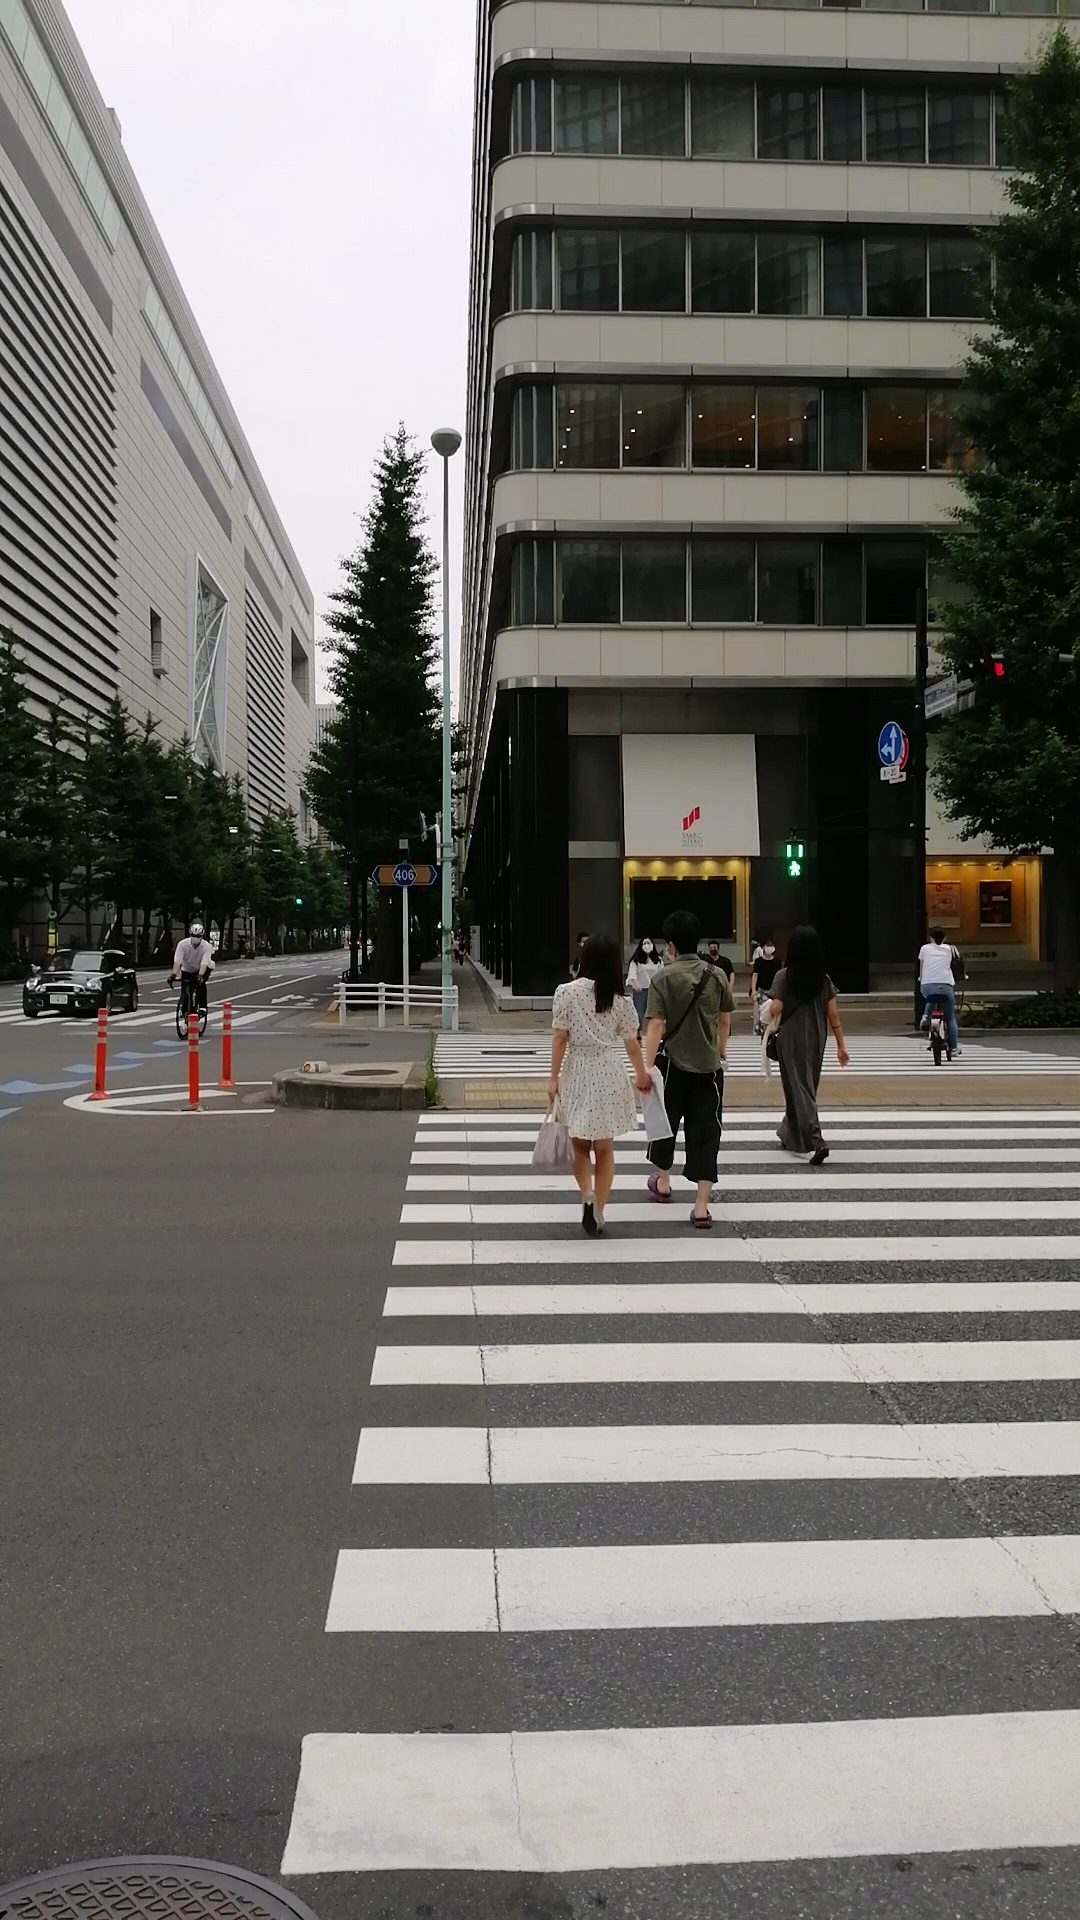green: (781, 836, 807, 882)
